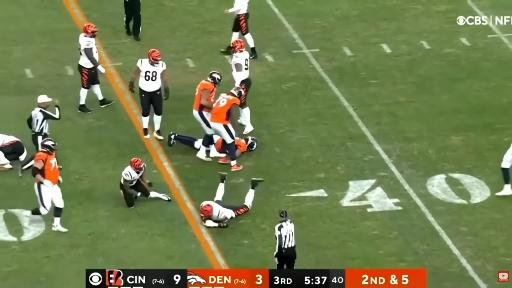Helmet: (40, 138, 56, 153), (148, 49, 161, 65), (231, 39, 245, 53), (208, 71, 221, 86), (130, 158, 145, 170), (245, 137, 257, 151), (200, 204, 213, 216), (231, 87, 243, 99), (83, 24, 97, 34), (168, 132, 176, 146)
Jersey: (137, 59, 166, 91), (211, 94, 240, 124), (34, 152, 59, 184), (200, 201, 235, 222), (194, 80, 215, 111), (79, 34, 98, 68), (231, 51, 249, 86), (122, 166, 144, 186), (230, 0, 249, 14), (0, 134, 20, 146), (214, 136, 223, 152)
Player: (129, 49, 169, 139), (200, 173, 263, 227), (31, 139, 67, 232), (78, 24, 113, 113), (193, 72, 225, 161), (211, 87, 243, 171), (120, 158, 171, 208), (231, 40, 253, 134), (225, 0, 257, 58), (0, 134, 26, 170), (496, 145, 511, 195), (168, 133, 203, 149)
